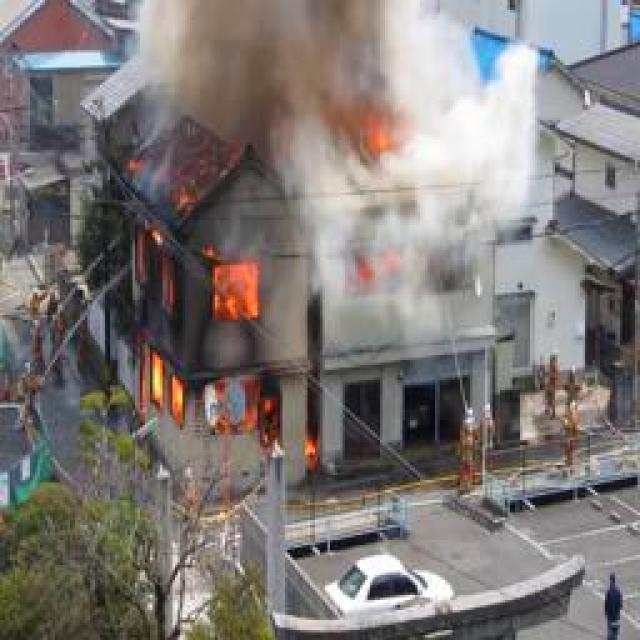Fire: (84, 154, 334, 470)
